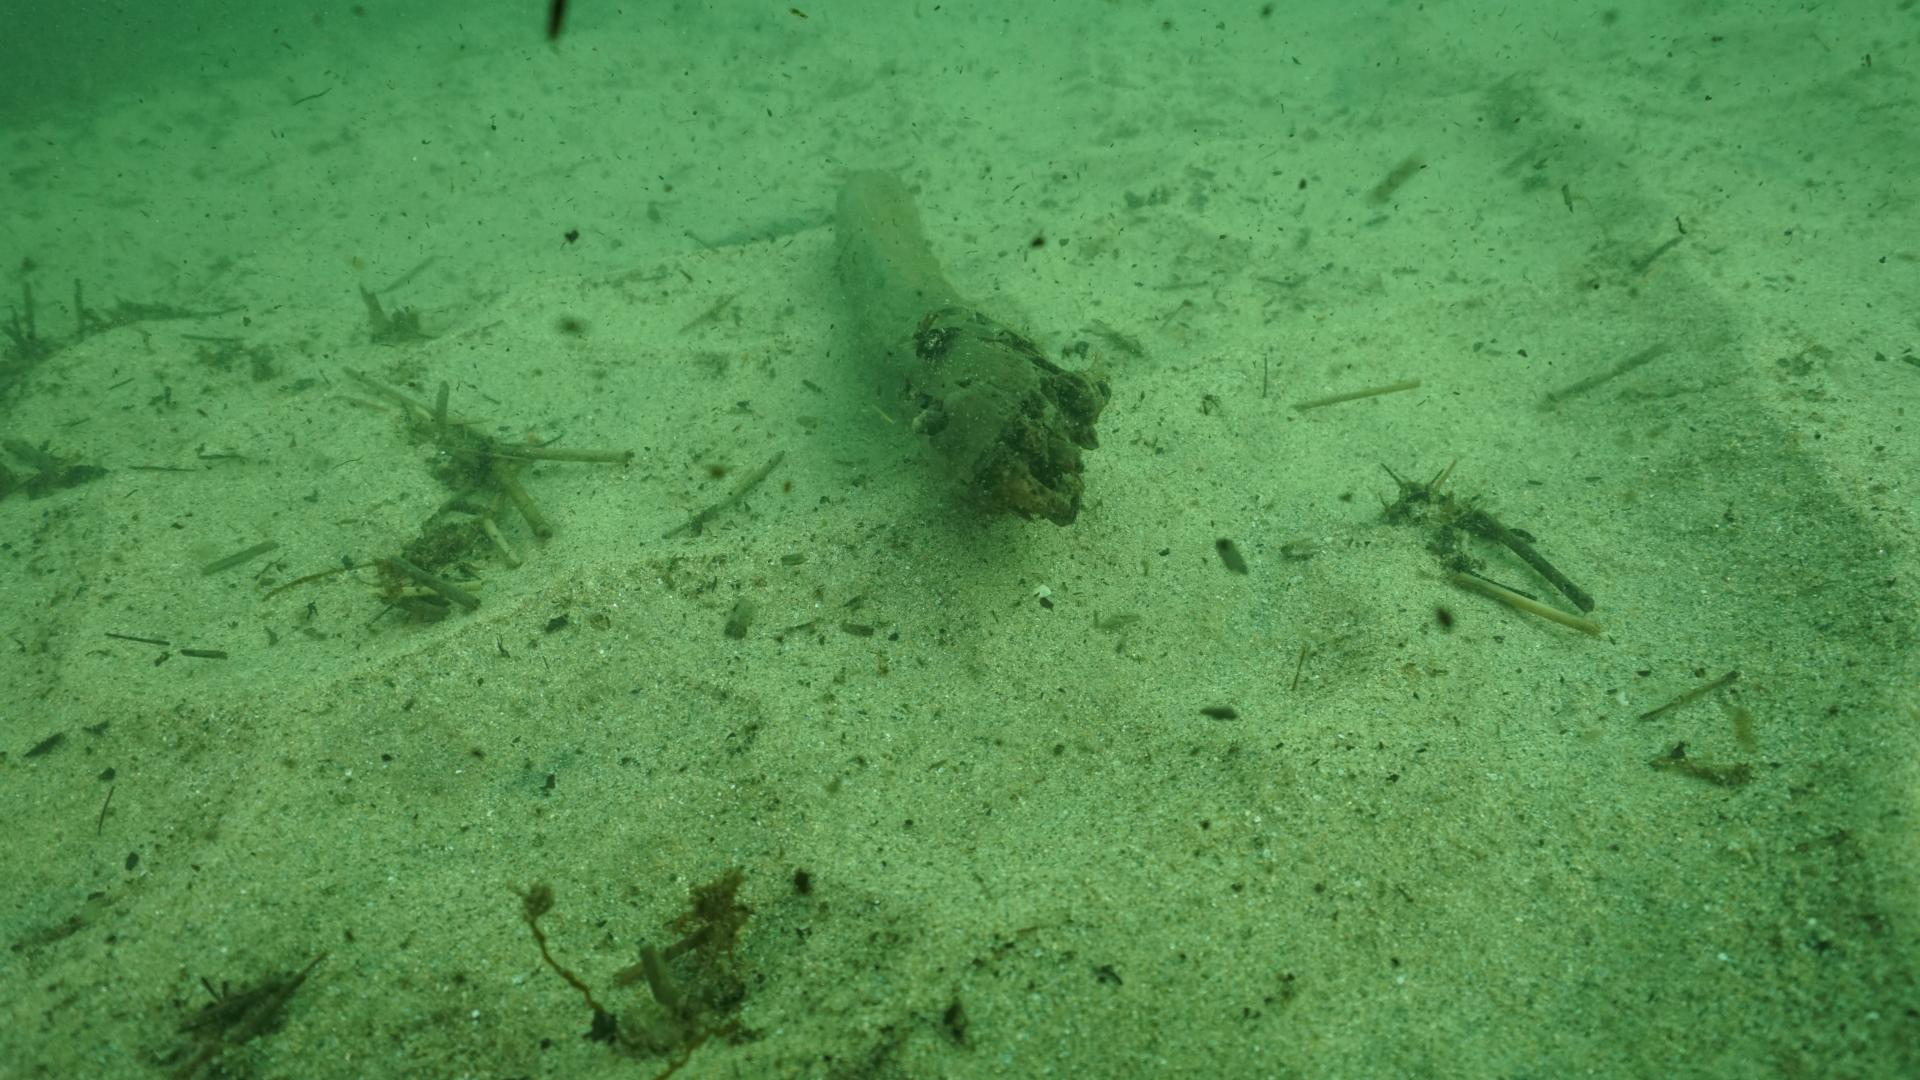wood: (831, 165, 1112, 527)
